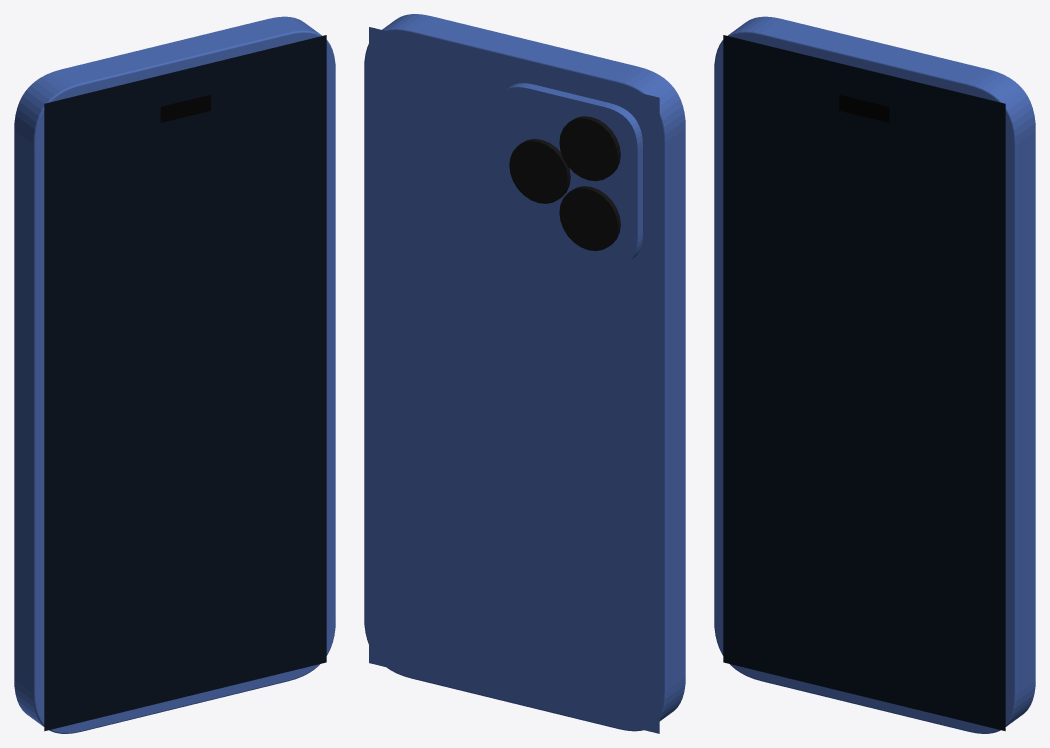
The model's file is iphone-16.glb.
The picture shows the model from 3 angles, left to right: view 1: azimuth 30°, elevation 25°; view 2: azimuth 150°, elevation 25°; view 3: azimuth 330°, elevation 25°; orthographic projection.
Size of the model in its own units: 0.0724 by 0.1484 by 0.0124.
